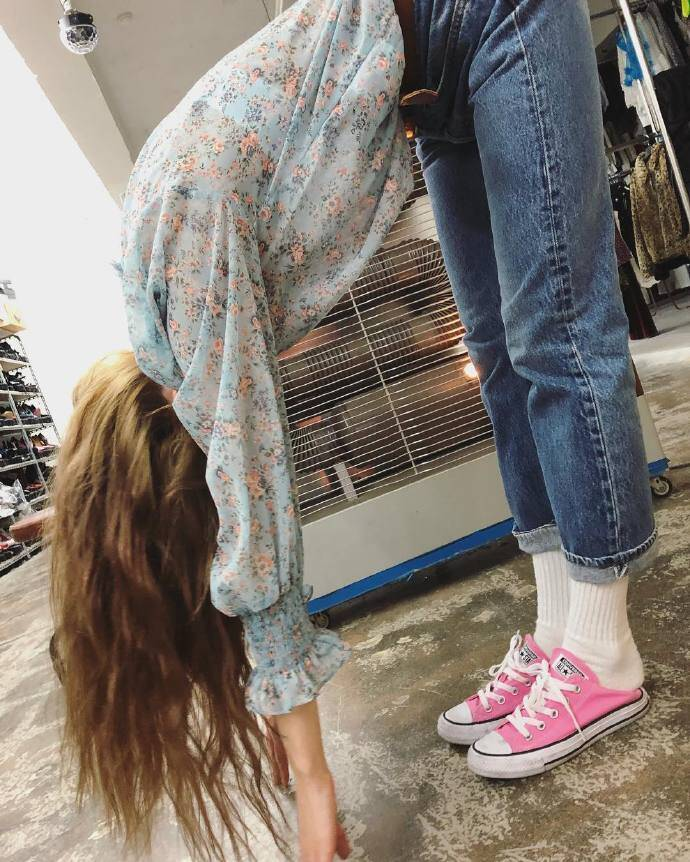bending: (9, 10, 677, 848)
